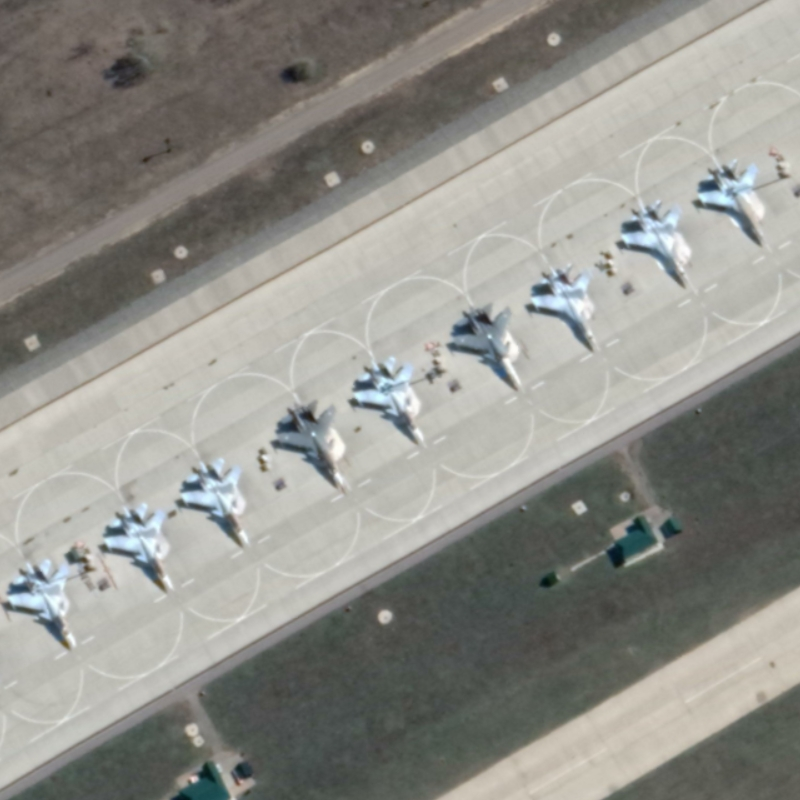A1: (695, 156, 770, 248), (617, 196, 693, 285), (527, 260, 601, 351)
A19: (4, 556, 80, 651), (272, 397, 348, 490), (100, 500, 177, 591), (351, 354, 427, 443), (449, 300, 524, 390), (178, 455, 250, 545)
